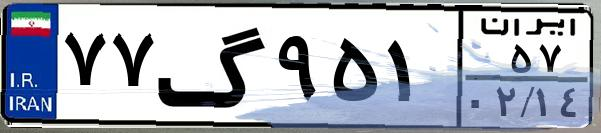0: (470, 70, 495, 125)
1: (385, 28, 445, 110), (535, 70, 560, 125)
2: (495, 70, 520, 125)
4: (560, 70, 590, 125)
5: (330, 28, 385, 110), (508, 27, 537, 80)
7: (57, 26, 110, 100), (110, 28, 156, 98), (537, 27, 568, 80)
9: (270, 28, 330, 110)
گ: (156, 12, 270, 120)
